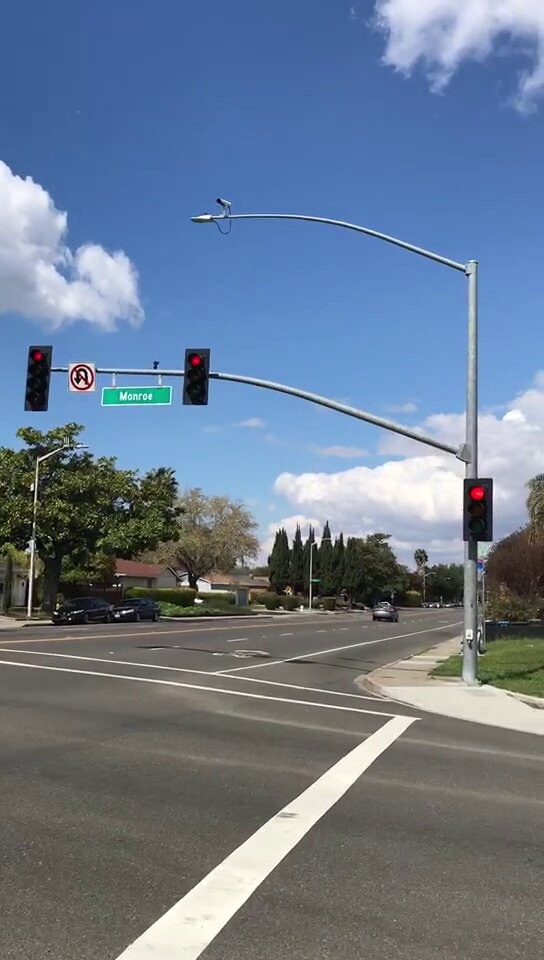red_light: (465, 480, 493, 542), (28, 346, 48, 409), (186, 348, 207, 405)
